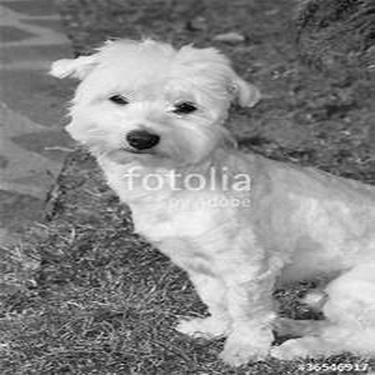dog: (41, 28, 374, 364)
